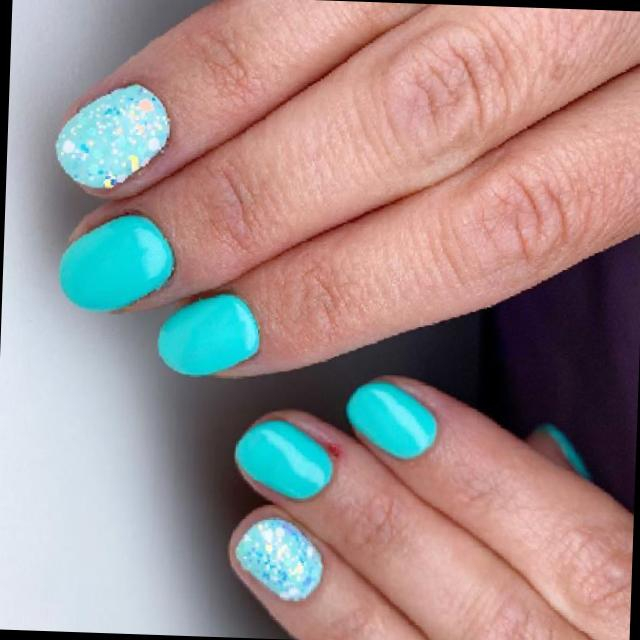Nail: (55, 83, 168, 188), (58, 214, 172, 311), (157, 293, 258, 375), (234, 420, 331, 498), (235, 517, 321, 600), (345, 381, 436, 458), (533, 423, 590, 479)
